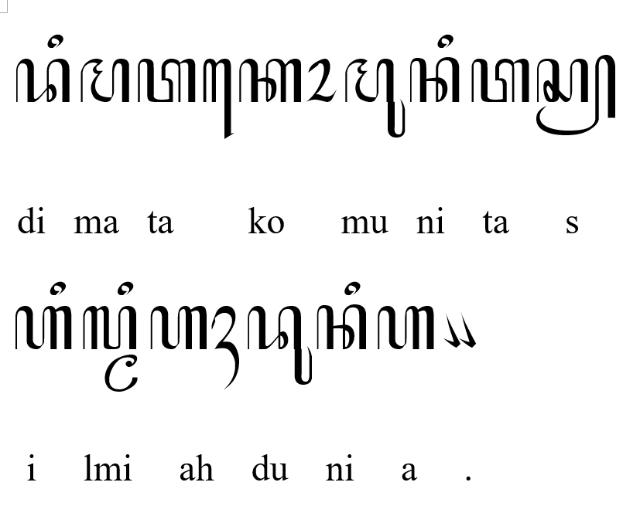-s: (536, 53, 616, 137)
_h1: (210, 306, 240, 390)
_m: (104, 355, 138, 393)
d: (15, 57, 71, 103)
du: (247, 306, 313, 386)
e1: (202, 57, 234, 139)
h: (377, 305, 435, 352), (14, 306, 72, 352), (150, 306, 208, 350)
i: (46, 33, 64, 49), (436, 32, 454, 48), (116, 281, 134, 297), (344, 280, 362, 296), (50, 280, 66, 297)
k: (238, 57, 302, 105)
kom: (442, 312, 460, 350), (458, 311, 476, 349)
l: (83, 305, 139, 351)
m: (80, 58, 130, 104)
mu: (344, 58, 406, 138)
n: (409, 56, 461, 104), (316, 305, 366, 352)
o: (307, 58, 337, 103)
t: (137, 56, 197, 104), (470, 57, 530, 104)
